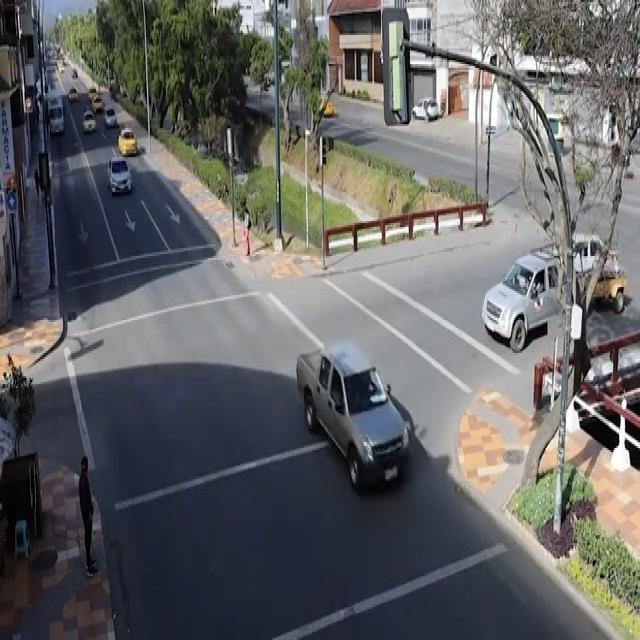CMT: (298, 349, 410, 488), (488, 256, 566, 339)
